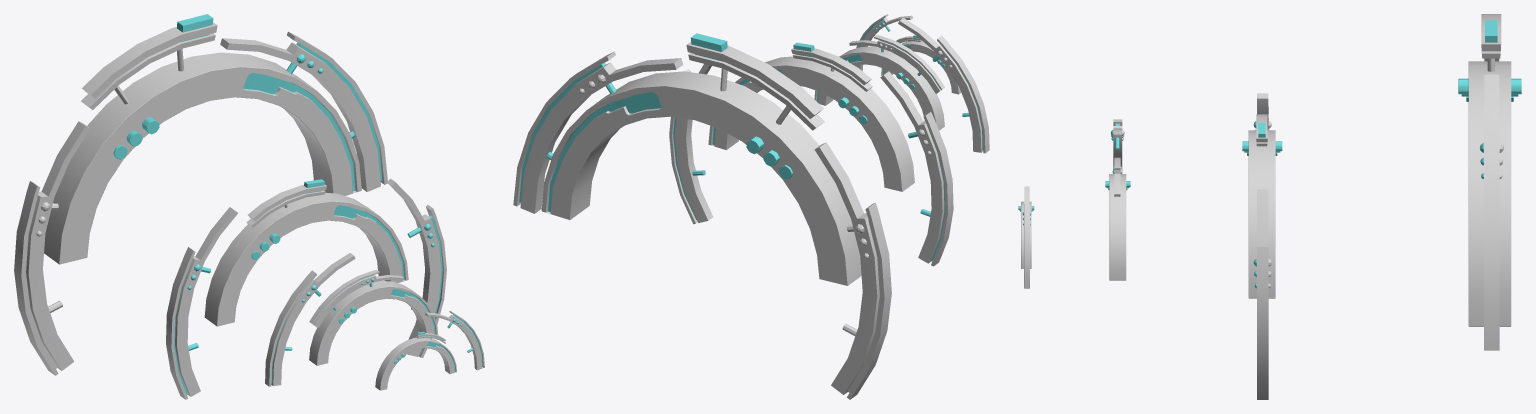
The model's file is m_Ruins_Arks.fbx.
3 renders of one model, left to right at view 1: azimuth 30°, elevation 25°; view 2: azimuth 150°, elevation 25°; view 3: azimuth 270°, elevation 25°, orthographic. The views are drawn at different scales.
Parts seen in each view (by area): view 1: Cylinder.011, Cylinder.016, Cylinder.015, Cylinder.018, Cylinder.021, Cylinder.017, Cylinder.020, Cylinder.014, Cylinder.012, Cylinder.019; view 2: Cylinder.011, Cylinder.016, Cylinder.015, Cylinder.018, Cylinder.021, Cylinder.017, Cylinder.020, Cylinder.014, Cylinder.012, Cylinder.019; view 3: Cylinder.011, Cylinder.015, Cylinder.017, Cylinder.021, Cylinder.019, Cylinder.020.
Boxes of the visible parts, x1,y1,x2,y2 form: Cylinder.011: [44, 52, 456, 390]; Cylinder.016: [14, 121, 90, 375]; Cylinder.015: [220, 31, 387, 191]; Cylinder.018: [166, 207, 237, 399]; Cylinder.021: [81, 14, 217, 109]; Cylinder.017: [387, 178, 446, 357]; Cylinder.020: [265, 253, 355, 386]; Cylinder.014: [246, 179, 326, 227]; Cylinder.012: [309, 269, 403, 327]; Cylinder.019: [425, 311, 484, 370]; Cylinder.011: [541, 41, 961, 285]; Cylinder.016: [814, 142, 891, 399]; Cylinder.015: [513, 51, 683, 213]; Cylinder.018: [880, 71, 953, 266]; Cylinder.021: [686, 33, 824, 130]; Cylinder.017: [669, 44, 729, 224]; Cylinder.020: [898, 18, 989, 153]; Cylinder.014: [791, 42, 872, 91]; Cylinder.012: [849, 35, 944, 93]; Cylinder.019: [855, 14, 912, 70]; Cylinder.011: [1018, 61, 1521, 326]; Cylinder.015: [1480, 74, 1503, 350]; Cylinder.017: [1253, 189, 1271, 399]; Cylinder.021: [1481, 14, 1501, 71]; Cylinder.019: [1022, 186, 1031, 288]; Cylinder.020: [1111, 119, 1124, 173].
Size of the model in its own units: 17149 by 14237 by 18928.
